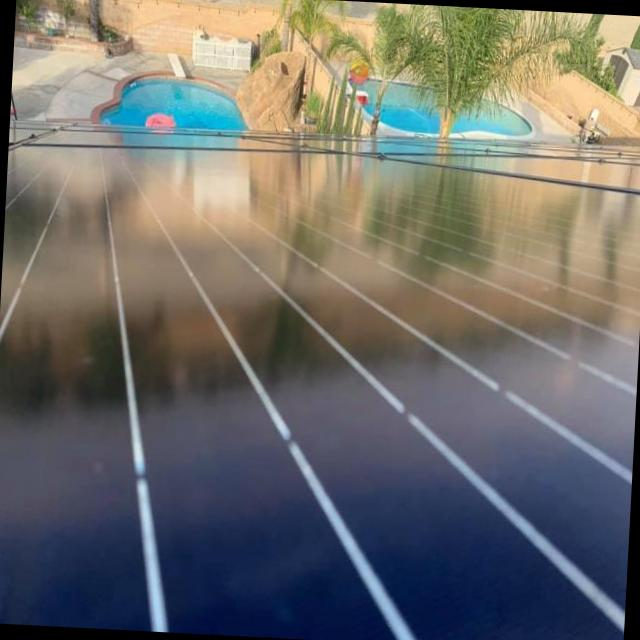no faulty: (0, 146, 640, 640)
